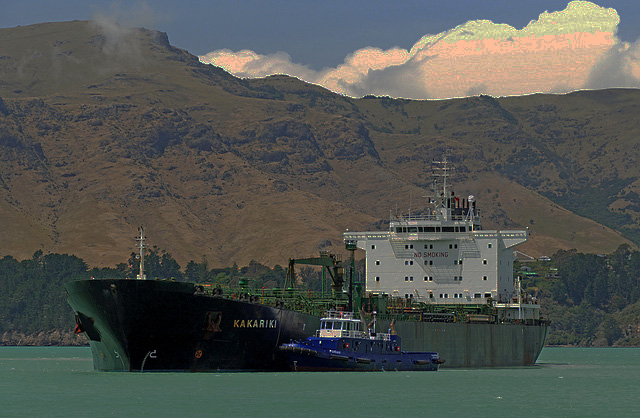tanker: (61, 157, 551, 368)
tug_boat: (285, 281, 452, 375)
